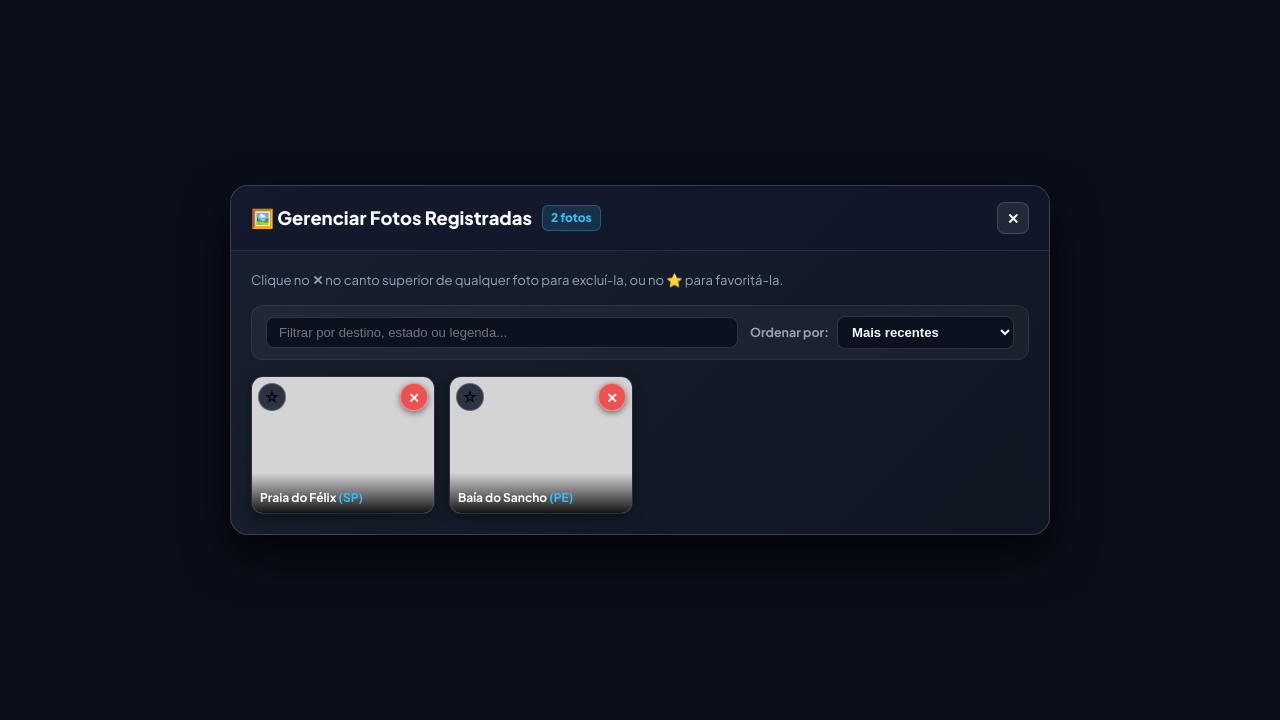
Test: PhotoManagerModal component › filters photos by search query and toggles favorite
// Toggle favorite
Step 1. Click the button named "marcar foto de praia do félix como favorita" → x=272, y=397, box [258, 383, 286, 411]
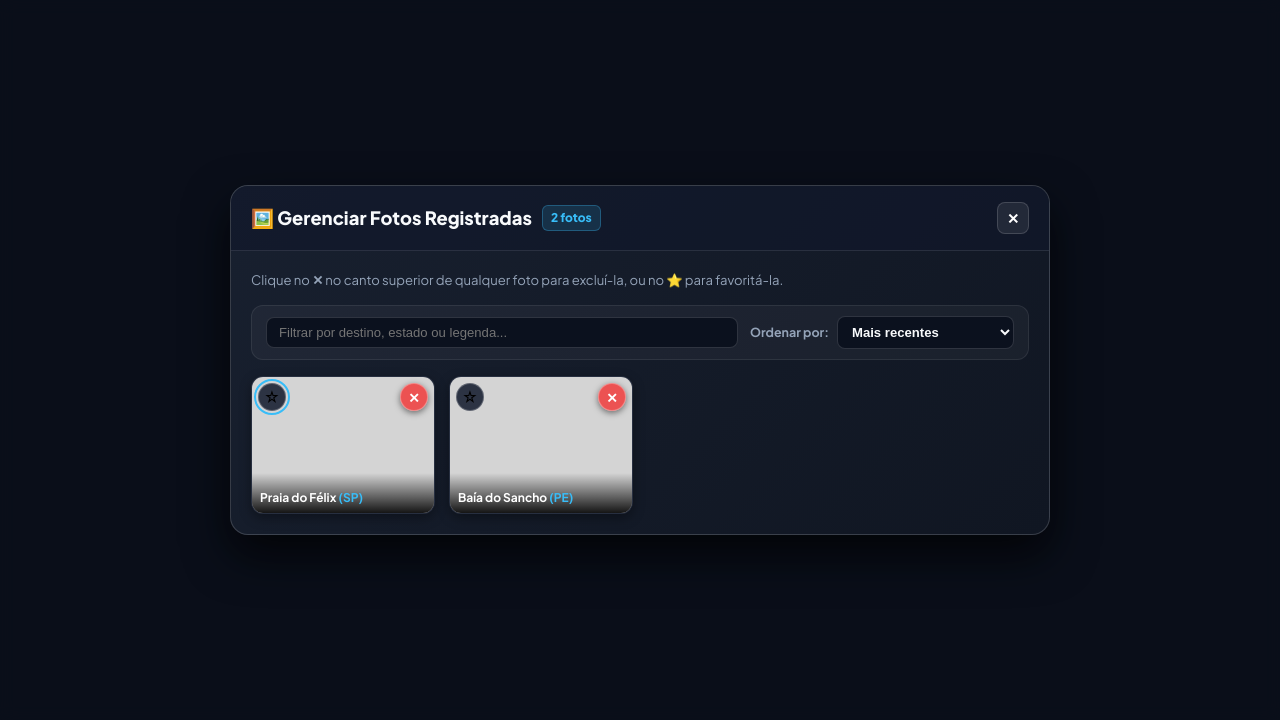
// Filter by destination name
Step 2. Type "Sancho" into the field named "filtrar fotos cadastradas" → x=502, y=333, box [266, 317, 738, 348]
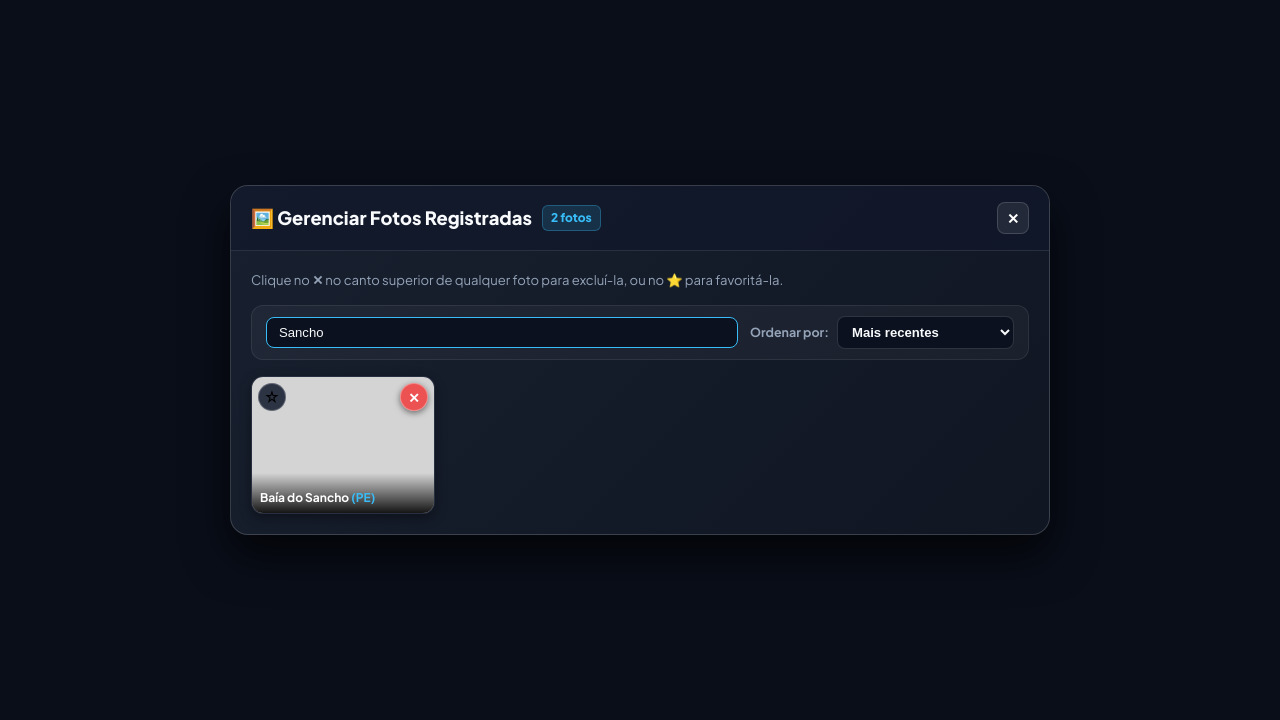
Expected: the text "Baía do Sancho (PE)" is shown, [260, 490, 375, 505]
Expected: the text "Praia do Félix" is gone
